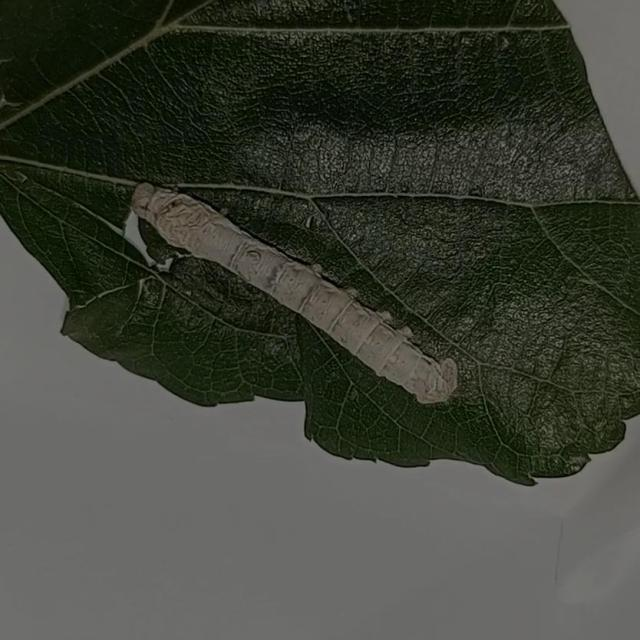Healthy: (126, 171, 462, 422)
